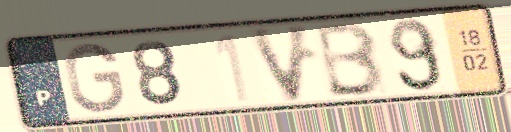1: (212, 32, 252, 104)
8: (130, 38, 187, 108)
9: (387, 15, 448, 95)
B: (314, 19, 389, 99)
G: (62, 40, 128, 115)
V: (243, 21, 315, 106)
